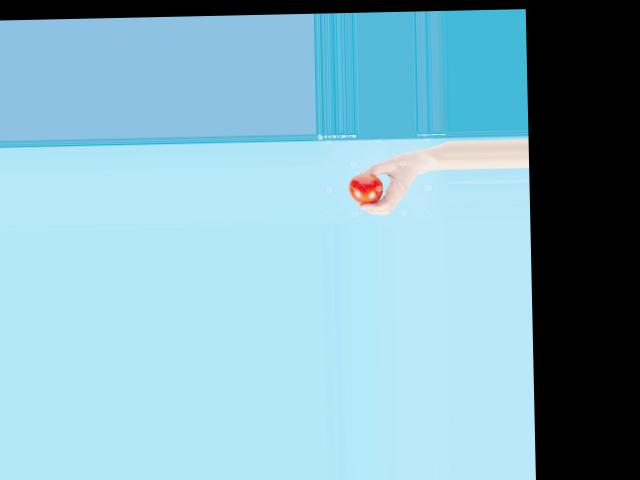tomato: (349, 174, 383, 204)
